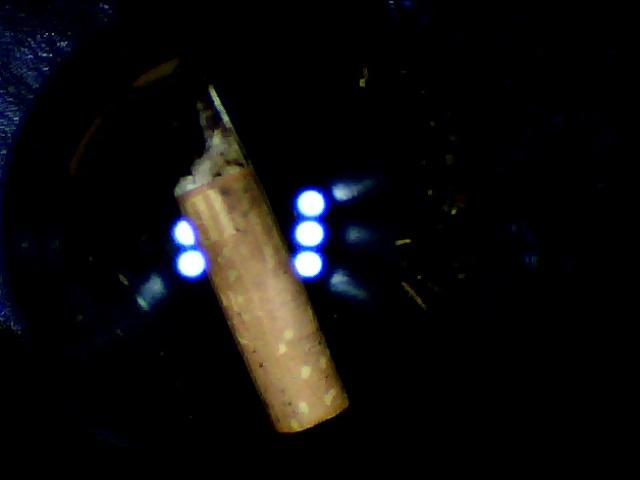megot: (160, 83, 356, 437)
